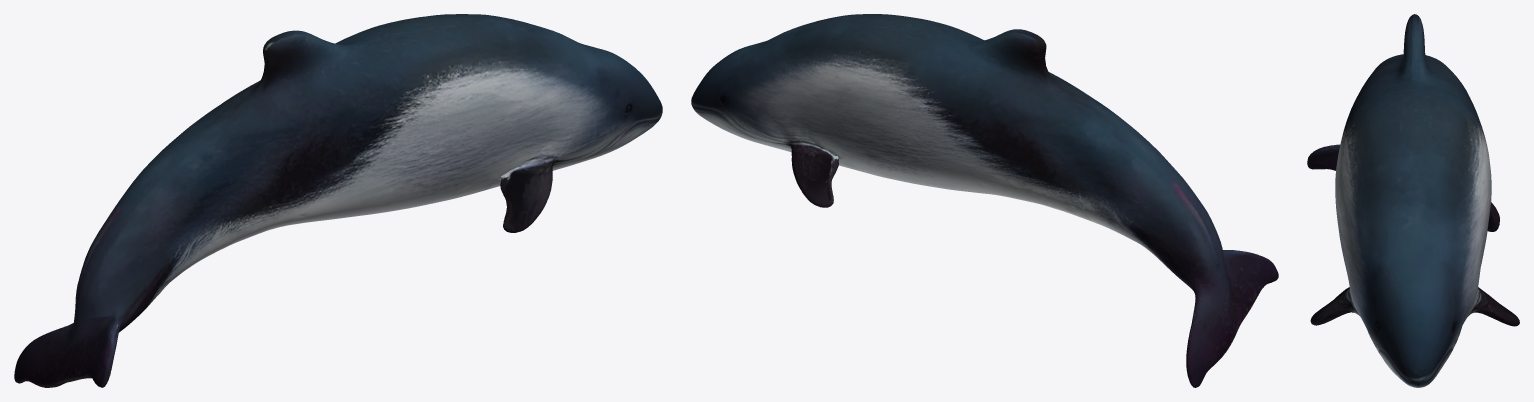
File: porpoise.glb
3 renders of one model, left to right at view 1: azimuth 30°, elevation 25°; view 2: azimuth 150°, elevation 25°; view 3: azimuth 270°, elevation 25°, orthographic. The views are drawn at different scales.
Visible parts, largest first — view 1: textured_mesh; view 2: textured_mesh; view 3: textured_mesh.
Boxes of the visible parts, bbox=[...] form: textured_mesh: bbox=[14, 14, 662, 387]; textured_mesh: bbox=[691, 14, 1278, 387]; textured_mesh: bbox=[1307, 14, 1519, 387].
Size of the model in its own units: 1.99 by 0.9956 by 0.5833.
Materials: 1 (1 with a texture image).
